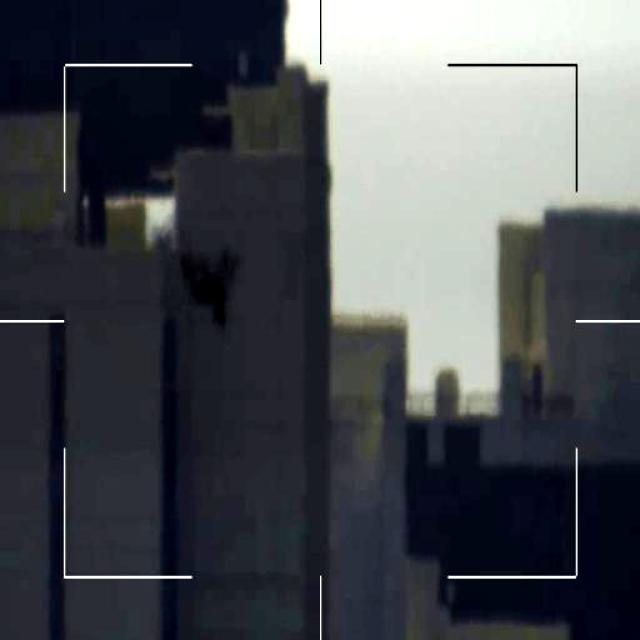bird: (188, 244, 240, 329)
